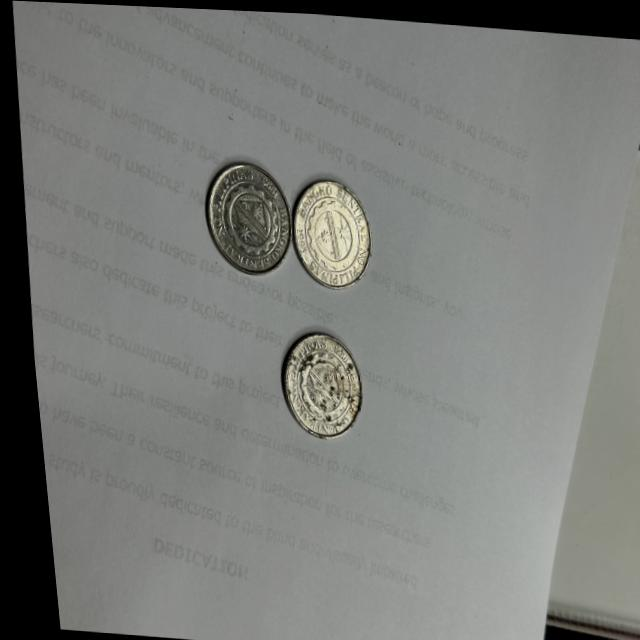1_Old_Back: (210, 172, 279, 258), (280, 340, 349, 426), (294, 188, 359, 272)
